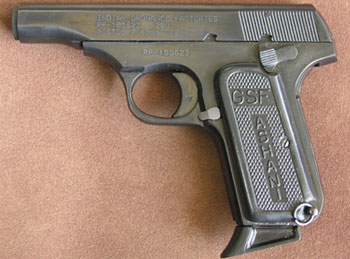gun: (10, 4, 340, 259)
